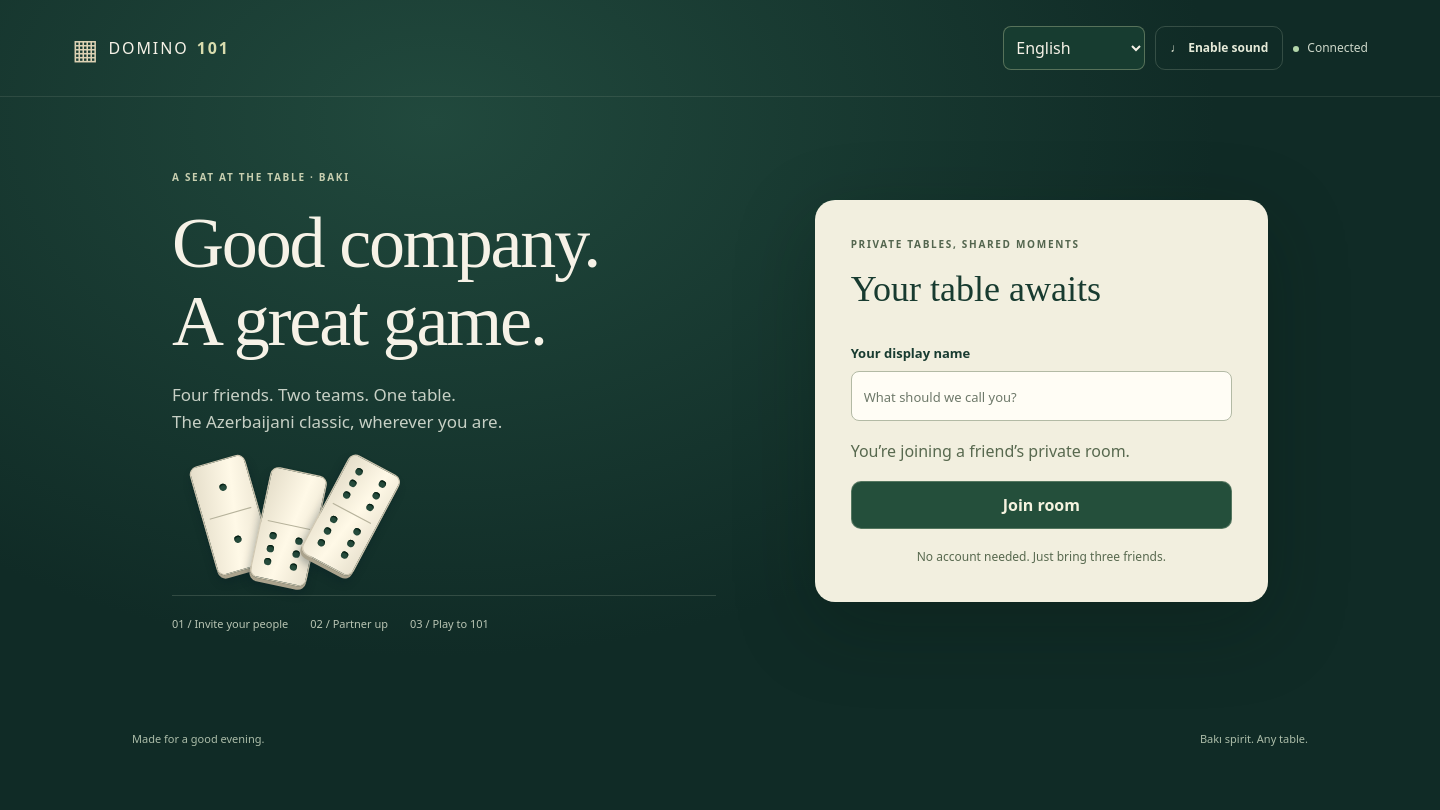
Test case: localization resources and persistence › renders en entry, controls and server errors
The image size is (1440, 810).
Check: the heading "Your table awaits" is shown, box [851,269,1101,309]
Type "Əli" into the field labelled "Your display name" at (1041, 396), box [851,371,1232,421]
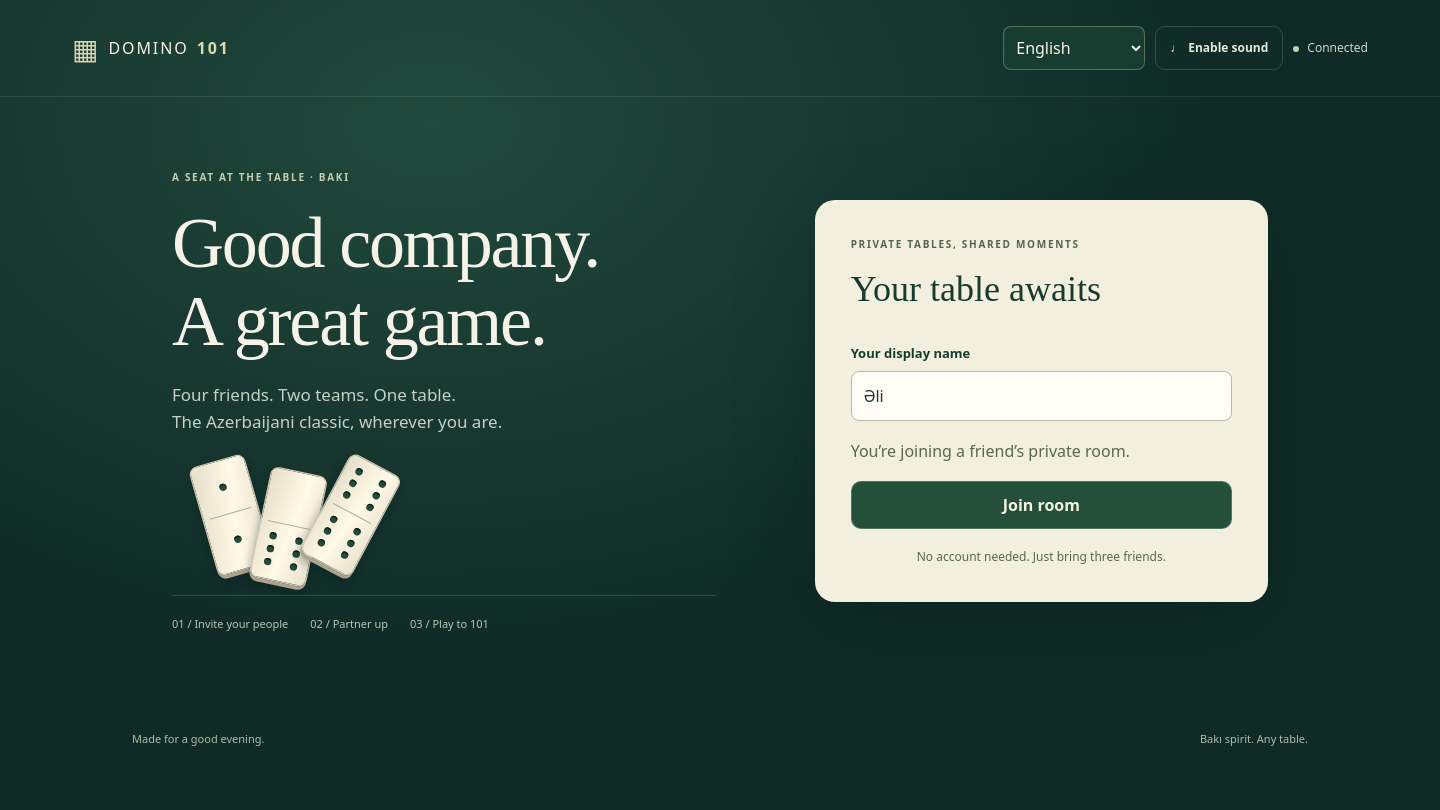
Click the button "Join room" at (1041, 505), box [851,481,1232,529]
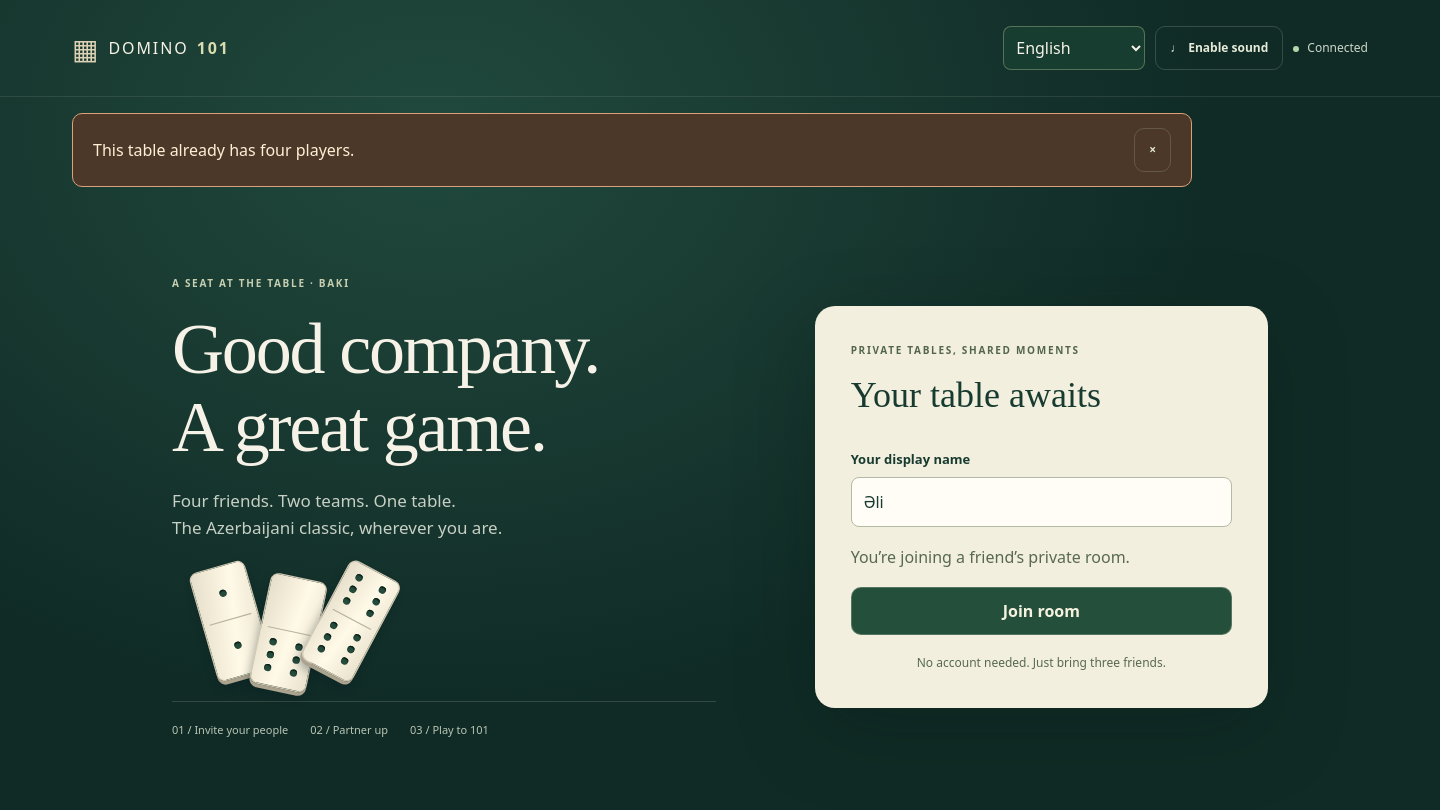
Check: the message "This table already has four players. ×" is shown, box [72,113,1192,187]
